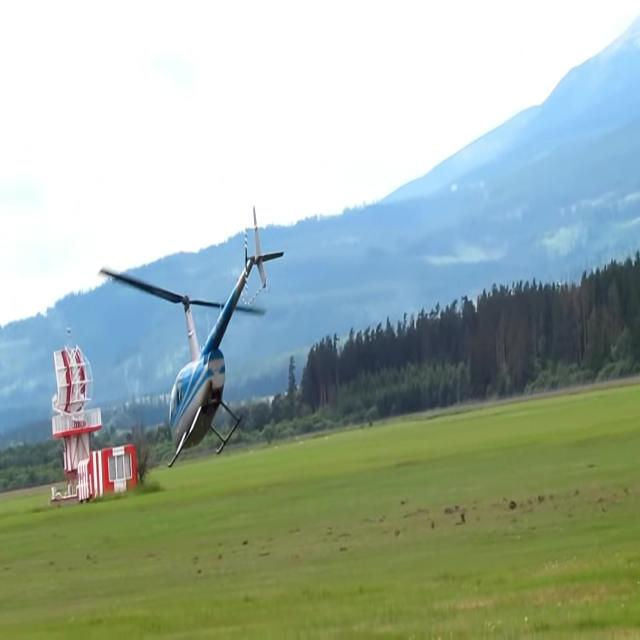CIV_HELO: (166, 205, 286, 469)
